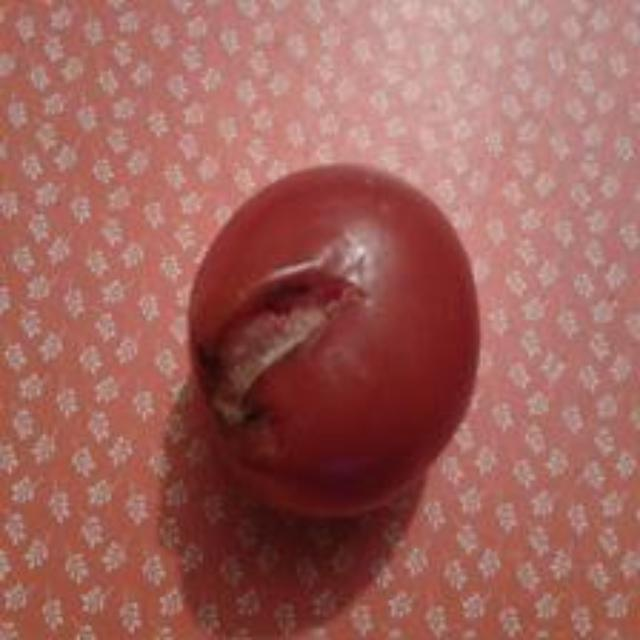defect: (186, 153, 489, 530)
